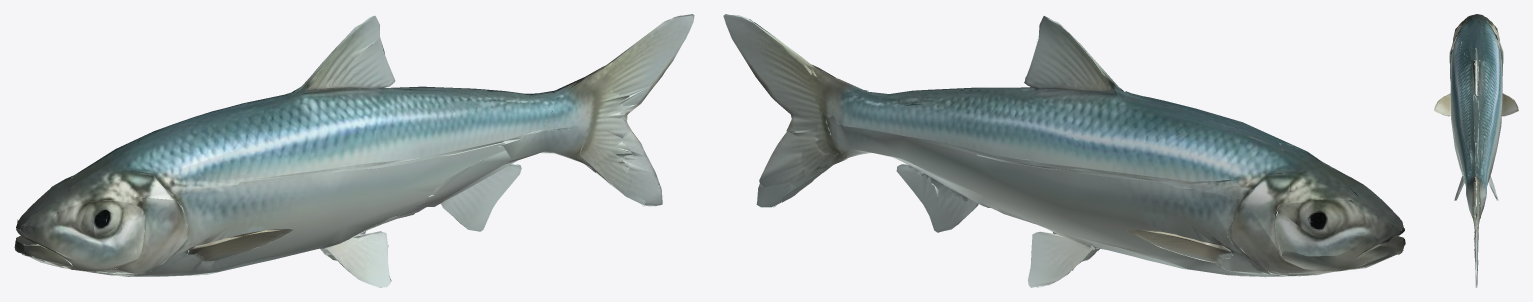
The model's file is herring.glb.
The picture shows the model from 3 angles, left to right: view 1: azimuth 30°, elevation 25°; view 2: azimuth 150°, elevation 25°; view 3: azimuth 270°, elevation 25°; orthographic projection. The views are drawn at different scales.
Visible parts, largest first — view 1: node_0; view 2: node_0; view 3: node_0.
Boxes of the visible parts, <box> form: node_0: <box>14,14,694,287</box>; node_0: <box>723,14,1405,287</box>; node_0: <box>1434,14,1518,287</box>.
Size of the model in its own units: 1.19 by 0.4353 by 0.2153.
1 material, 1 textured.
